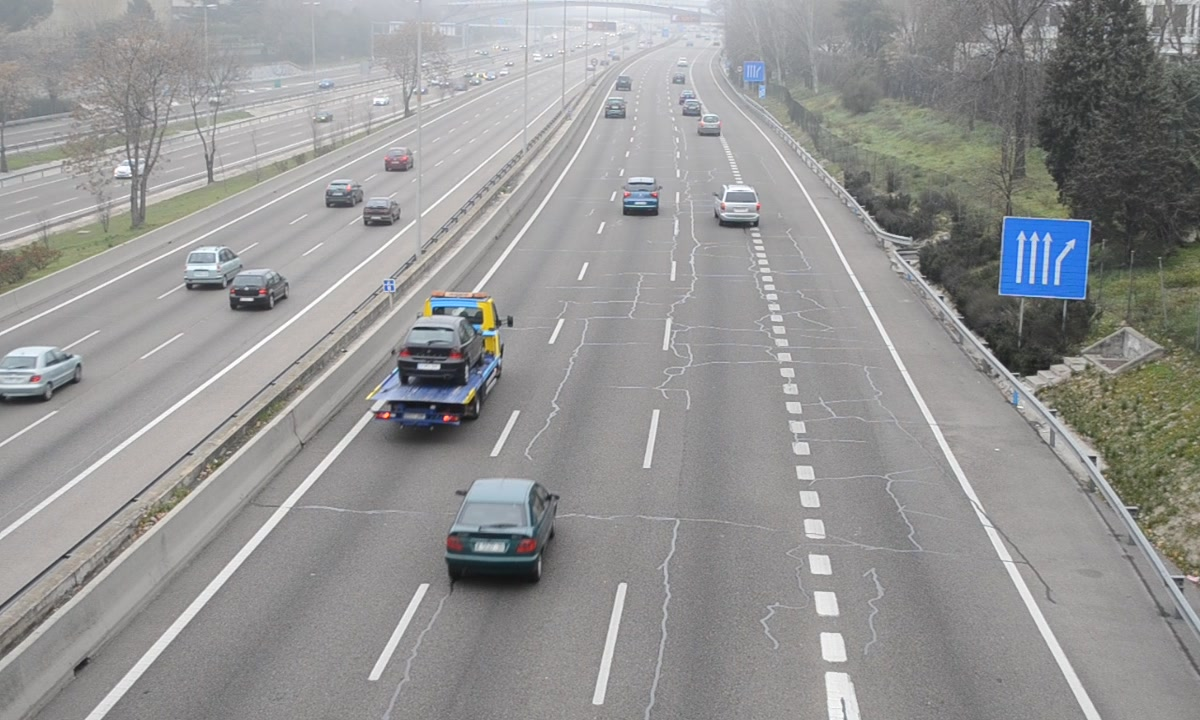car: (444, 479, 556, 573), (716, 184, 760, 224), (622, 176, 659, 214), (700, 112, 723, 137), (604, 96, 626, 120)
small-truck: (366, 292, 504, 426)
